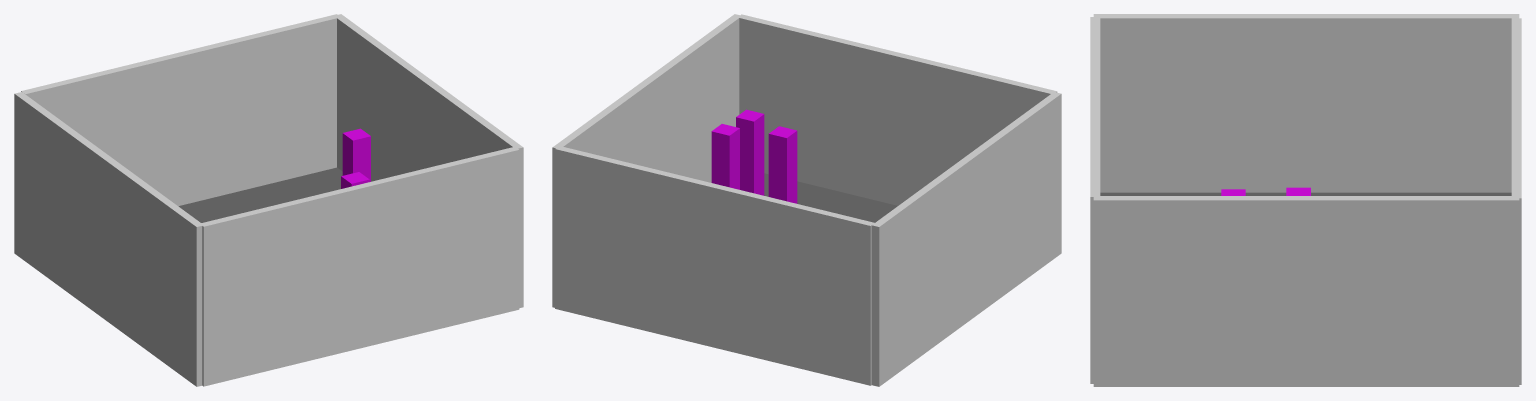
The model's file is displayRoom.glb.
3 views of the same model, side by side, from view 1: azimuth 30°, elevation 25°; view 2: azimuth 150°, elevation 25°; view 3: azimuth 270°, elevation 25° (orthographic). The views are drawn at different scales.
Parts seen in each view (by area): view 1: Wall_S, Wall_N, Wall_W, Wall_E, Floor, Cube.001; view 2: Wall_N, Wall_S, Wall_W, Wall_E, Floor, Cube.002, Cube, Cube.001; view 3: Wall_E, Wall_W, Wall_S, Wall_N, Floor.
Part boxes in pixels (<box>): Wall_S: <box>201,146,519,386</box>; Wall_N: <box>21,14,339,206</box>; Wall_W: <box>14,92,203,386</box>; Wall_E: <box>334,14,523,308</box>; Floor: <box>178,167,342,222</box>; Cube.001: <box>342,128,370,181</box>; Wall_N: <box>555,146,874,385</box>; Wall_S: <box>738,14,1057,205</box>; Wall_W: <box>871,92,1061,386</box>; Wall_E: <box>552,14,741,307</box>; Floor: <box>764,173,897,222</box>; Cube.002: <box>768,126,797,203</box>; Cube: <box>736,109,764,195</box>; Cube.001: <box>711,124,739,189</box>; Wall_E: <box>1093,196,1519,386</box>; Wall_W: <box>1093,14,1519,192</box>; Wall_S: <box>1090,17,1100,383</box>; Wall_N: <box>1511,18,1521,384</box>; Floor: <box>1100,192,1511,195</box>.
Size of the model in its own units: 36.08 by 18.04 by 35.32.
